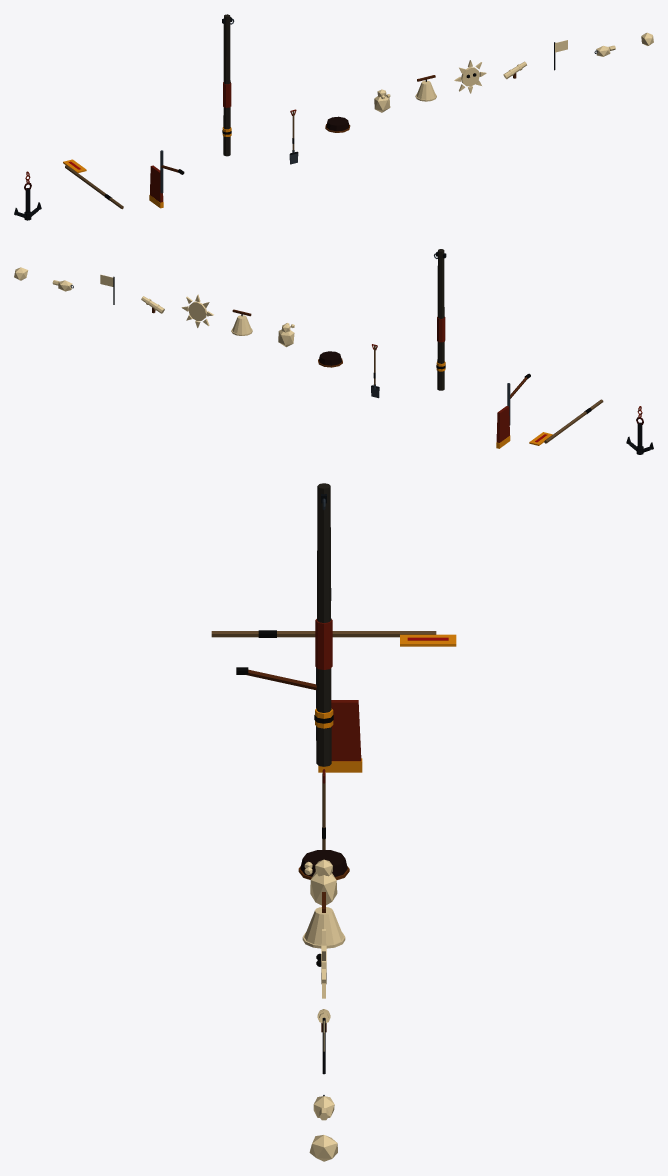
Rendered from tb_fittings_kit.glb.
The picture shows the model from 3 angles, top to bottom: view 1: azimuth 30°, elevation 25°; view 2: azimuth 150°, elevation 25°; view 3: azimuth 270°, elevation 25°; orthographic projection. The views are drawn at different scales.
Visible parts, largest first — view 1: skiff_mast, skiff_rudder, trophy_mask__a, paddle, anchor, trophy_base, trophy_bell__a; view 2: skiff_mast, skiff_rudder, trophy_mask__a, paddle, anchor, trophy_base, trophy_bell__a; view 3: skiff_mast, skiff_rudder, paddle, trophy_bell__a.
Boxes of the visible parts, x1,y1,x2,y2 form: skiff_mast: (222,14,234,156); skiff_rudder: (149,150,184,208); trophy_mask__a: (454,60,486,93); paddle: (63,159,123,209); anchor: (14,171,41,220); trophy_base: (325,116,350,132); trophy_bell__a: (415,80,436,101); skiff_mast: (434,249,446,390); skiff_rudder: (496,373,530,448); trophy_mask__a: (181,294,213,327); paddle: (529,399,603,445); anchor: (626,406,653,454); trophy_base: (318,351,342,367); trophy_bell__a: (231,315,252,335); skiff_mast: (314,483,333,766); skiff_rudder: (236,667,362,772); paddle: (211,630,456,646); trophy_bell__a: (302,907,345,948).
Size of the model in its own units: 14.42 by 3.78 by 2.39.
